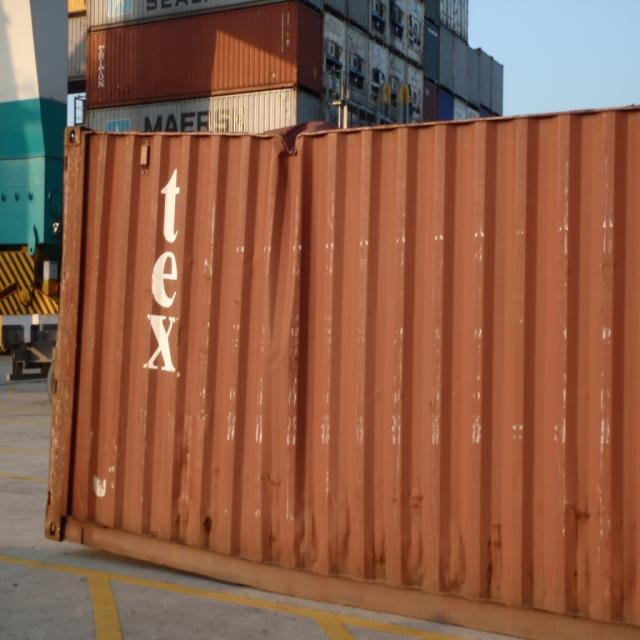dent: (265, 155, 320, 522), (610, 529, 640, 629), (478, 516, 509, 601), (567, 527, 596, 615), (266, 124, 332, 160), (440, 523, 470, 594), (336, 494, 357, 579), (525, 534, 547, 612), (401, 529, 428, 590), (295, 538, 321, 572), (371, 529, 387, 575)
